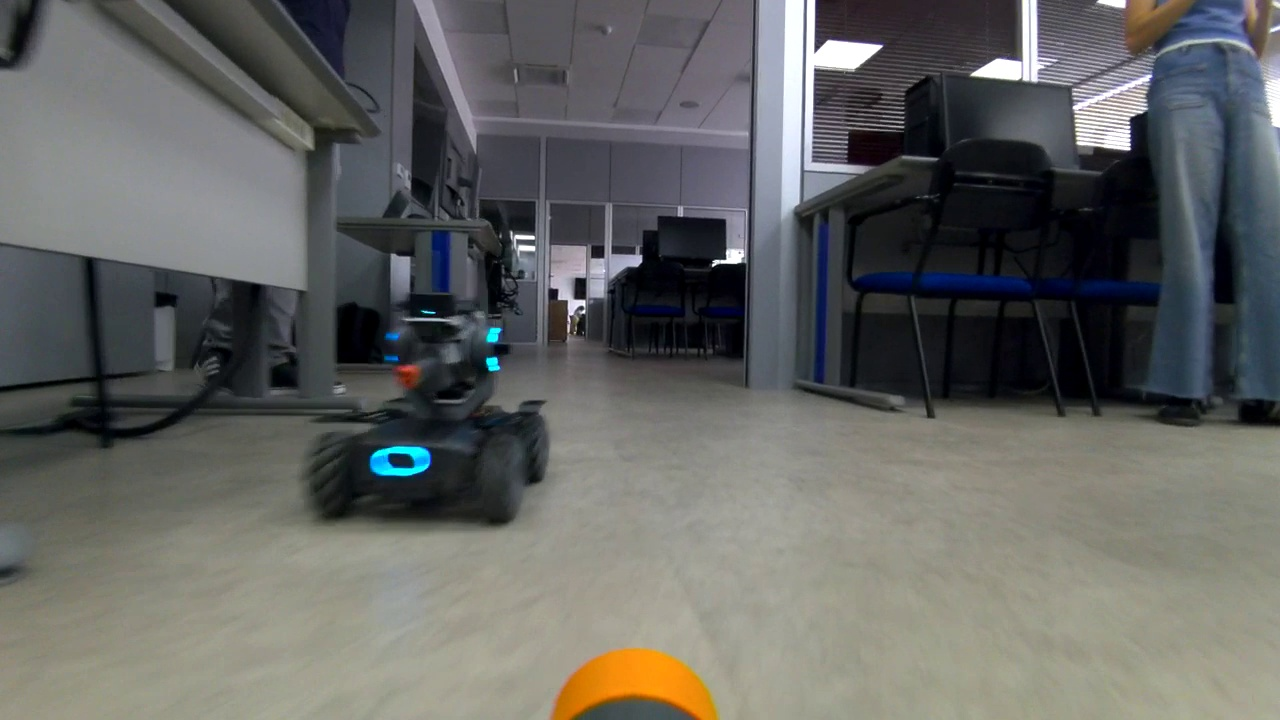robot: (290, 253, 556, 535)
